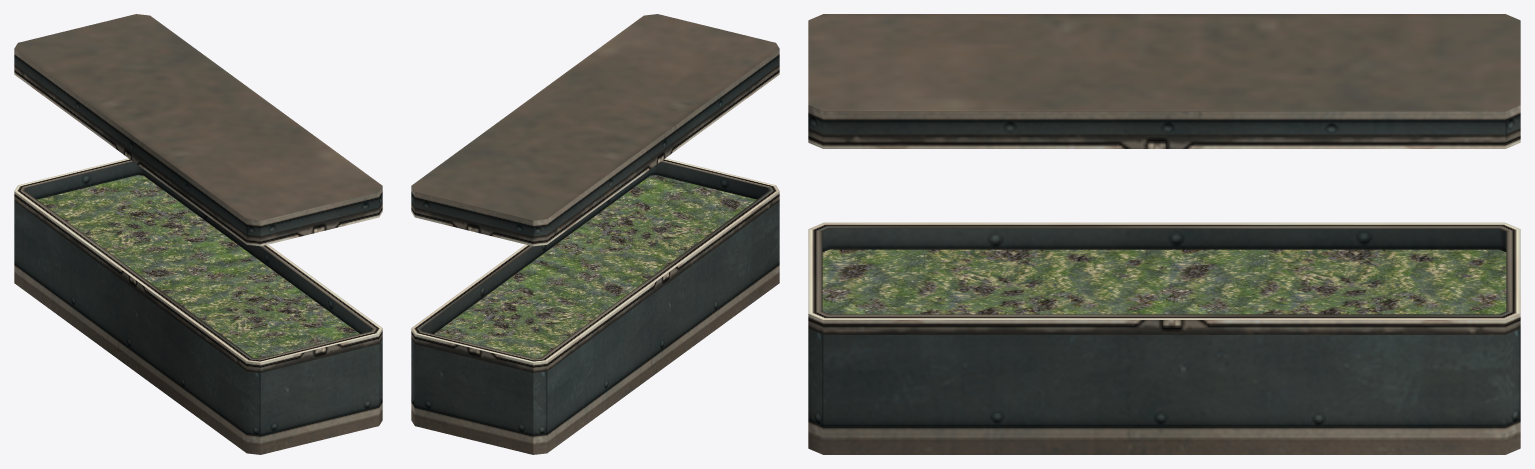
The model's file is mprw_plantbox_closed.FBX.
3 renders of one model, left to right at view 1: azimuth 30°, elevation 25°; view 2: azimuth 150°, elevation 25°; view 3: azimuth 270°, elevation 25°, orthographic. The views are drawn at different scales.
Visible parts, largest first — view 1: mprw_plantbox_closed; view 2: mprw_plantbox_closed; view 3: mprw_plantbox_closed.
Part boxes in pixels (left/top/right/bottom): mprw_plantbox_closed: left=14, top=14, right=382, bottom=454; mprw_plantbox_closed: left=411, top=14, right=779, bottom=454; mprw_plantbox_closed: left=808, top=14, right=1520, bottom=454.
Bounding box in the file's own units: 201 × 331 × 622.
Materials: 2 (2 with a texture image).
